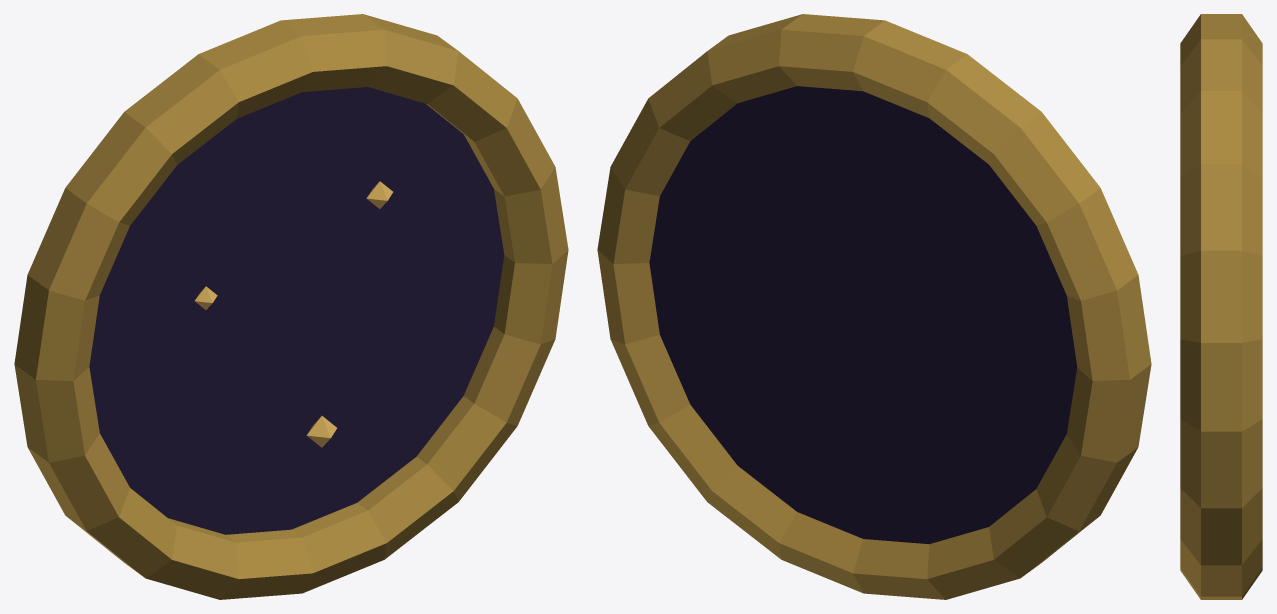
Rendered from porthole.gltf.
3 views of the same model, side by side, from view 1: azimuth 30°, elevation 25°; view 2: azimuth 150°, elevation 25°; view 3: azimuth 270°, elevation 25° (orthographic). The views are drawn at different scales.
Parts seen in each view (by area): view 1: glass, rim; view 2: glass, rim; view 3: rim.
Part boxes in pixels (box(x1,y1,x2,y2)): glass: box(89, 87, 504, 534); rim: box(14, 14, 568, 599); glass: box(649, 86, 1077, 544); rim: box(597, 14, 1151, 599); rim: box(1180, 14, 1262, 599).
Size of the model in its own units: 1.38 by 1.38 by 0.192.
